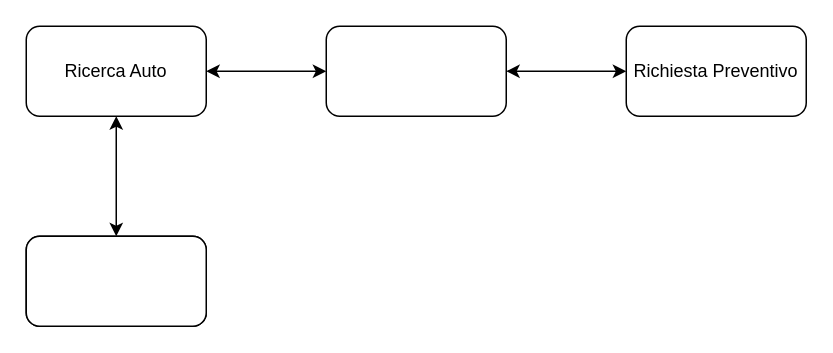
This 833x353 diagram has some shape labels left out. The centre of each missing label's shape, as x and y in pixels:
"Home" belongs at point 115,280.
"Pagina Auto" belongs at point 415,70.
